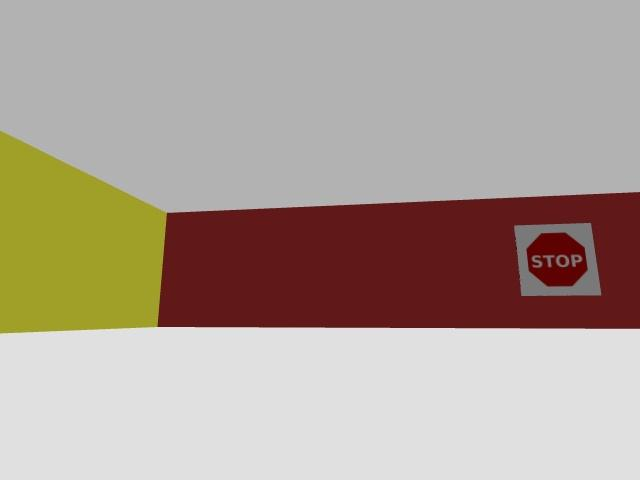stopsign: (516, 223, 600, 295)
